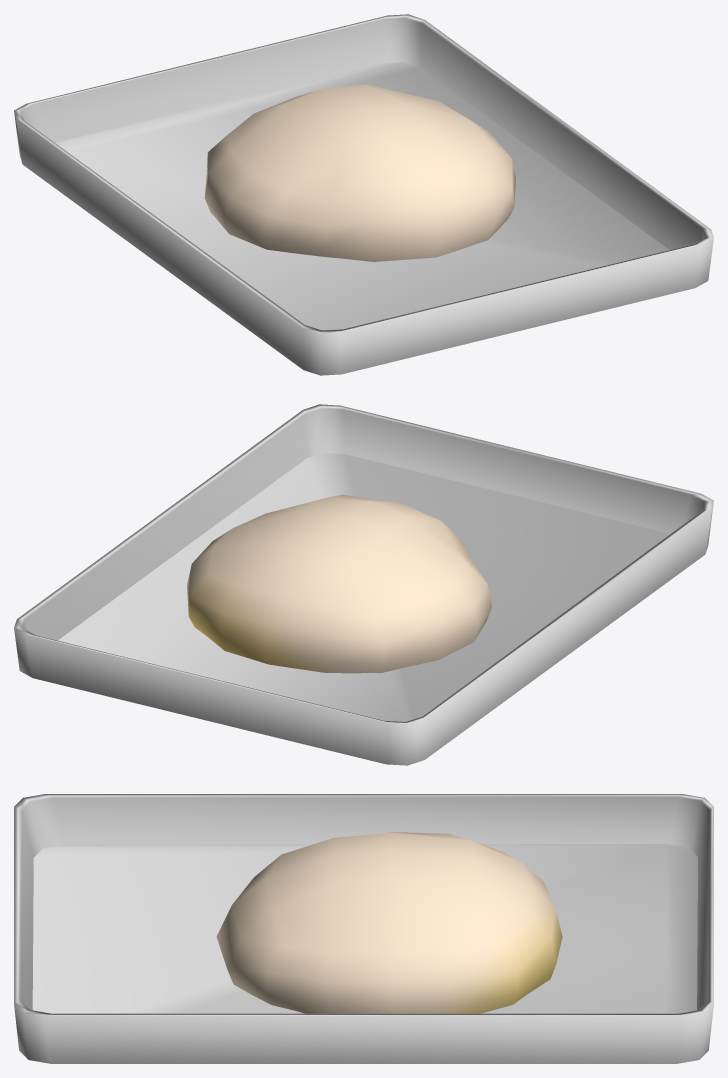
File: Bakery_Dough_01.fbx
3 views of the same model, one above another, from view 1: azimuth 30°, elevation 25°; view 2: azimuth 150°, elevation 25°; view 3: azimuth 270°, elevation 25° (orthographic). The views are drawn at different scales.
Parts seen in each view (by area): view 1: Bakery_Dough_01; view 2: Bakery_Dough_01; view 3: Bakery_Dough_01.
Part boxes in pixels (x1=…): Bakery_Dough_01: x1=14, y1=14, x2=713, y2=375; Bakery_Dough_01: x1=14, y1=404, x2=713, y2=765; Bakery_Dough_01: x1=14, y1=794, x2=713, y2=1063.
Size of the model in its own units: 84.98 by 20.27 by 113.
